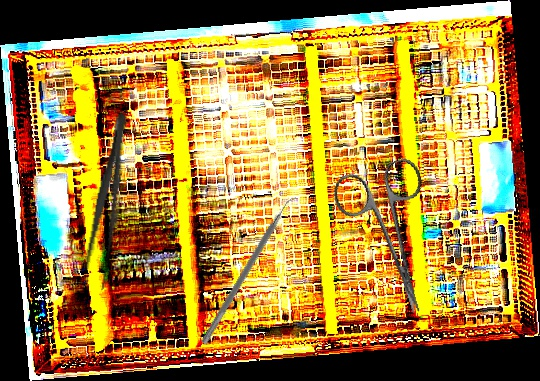Dressing Forceps: (80, 109, 137, 291)
Iris Scissors: (328, 155, 457, 326)
Spatula Surgical: (200, 192, 300, 349)
